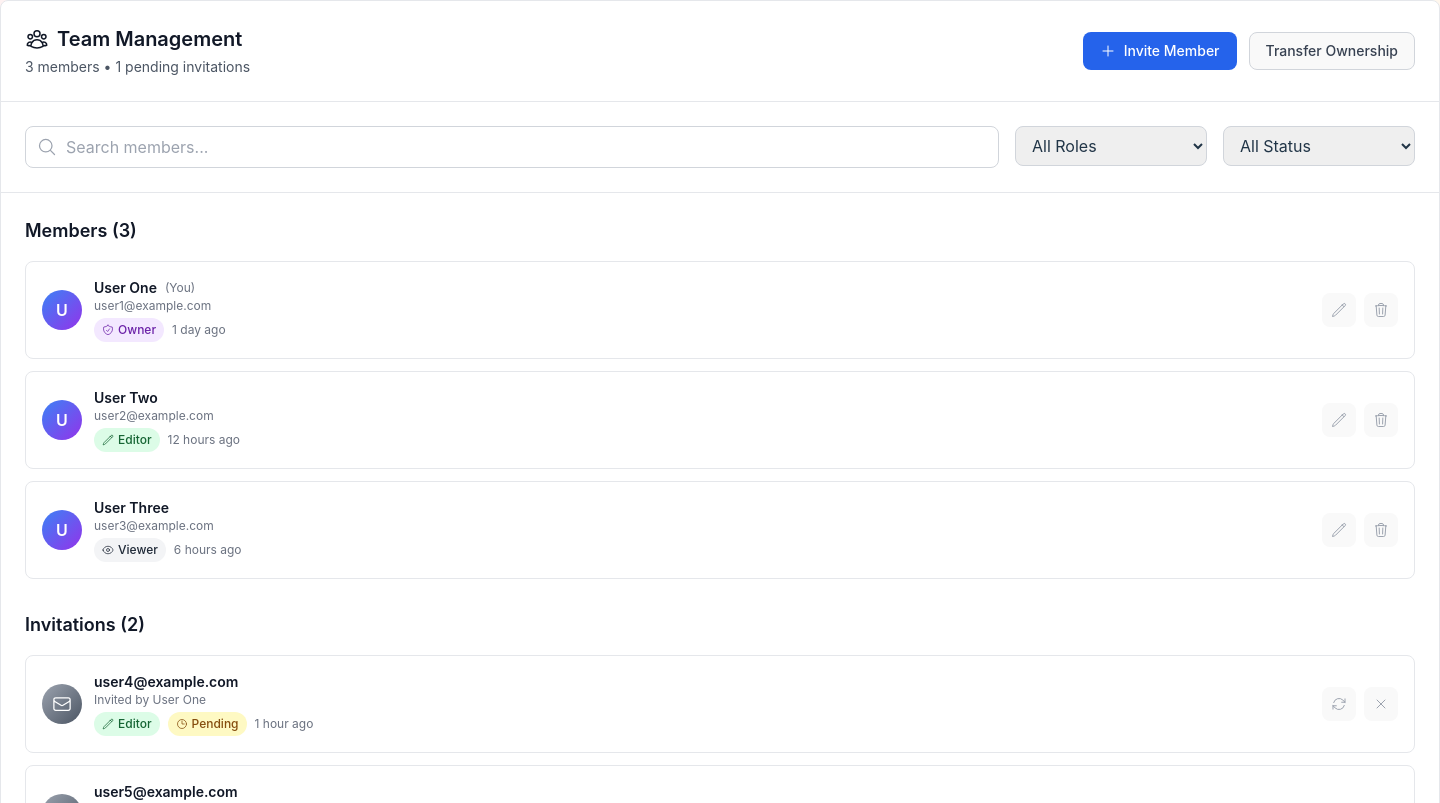
Test case: TeamManagement › Search and Filtering › should filter members by search query
Type "User Two" into the field with placeholder "Search members..." at (512, 147), box [25,126,999,168]
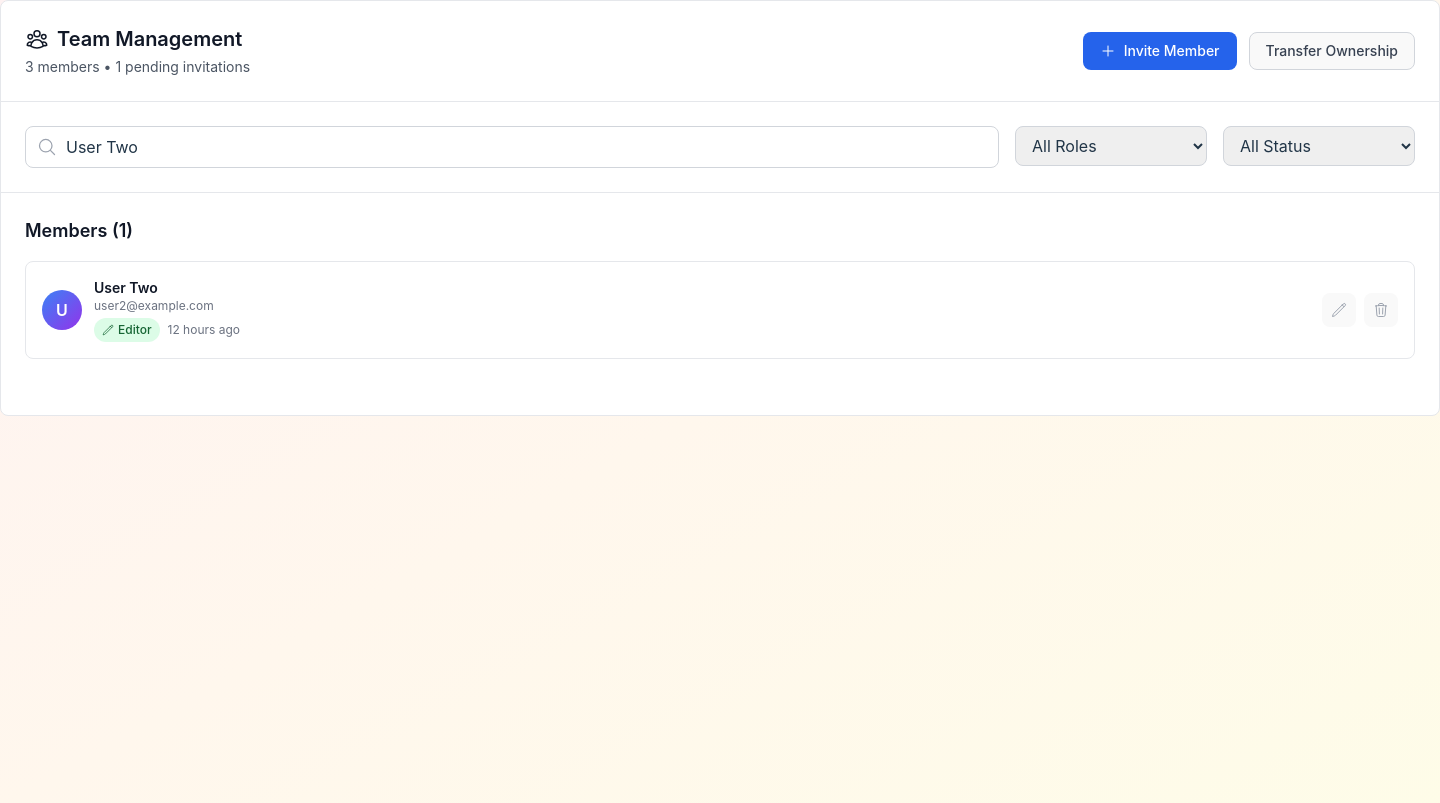
Expected: the heading "User Two" is shown, [94,278,158,298]
Result: the heading "User One" is gone
Result: the heading "User Three" is gone
